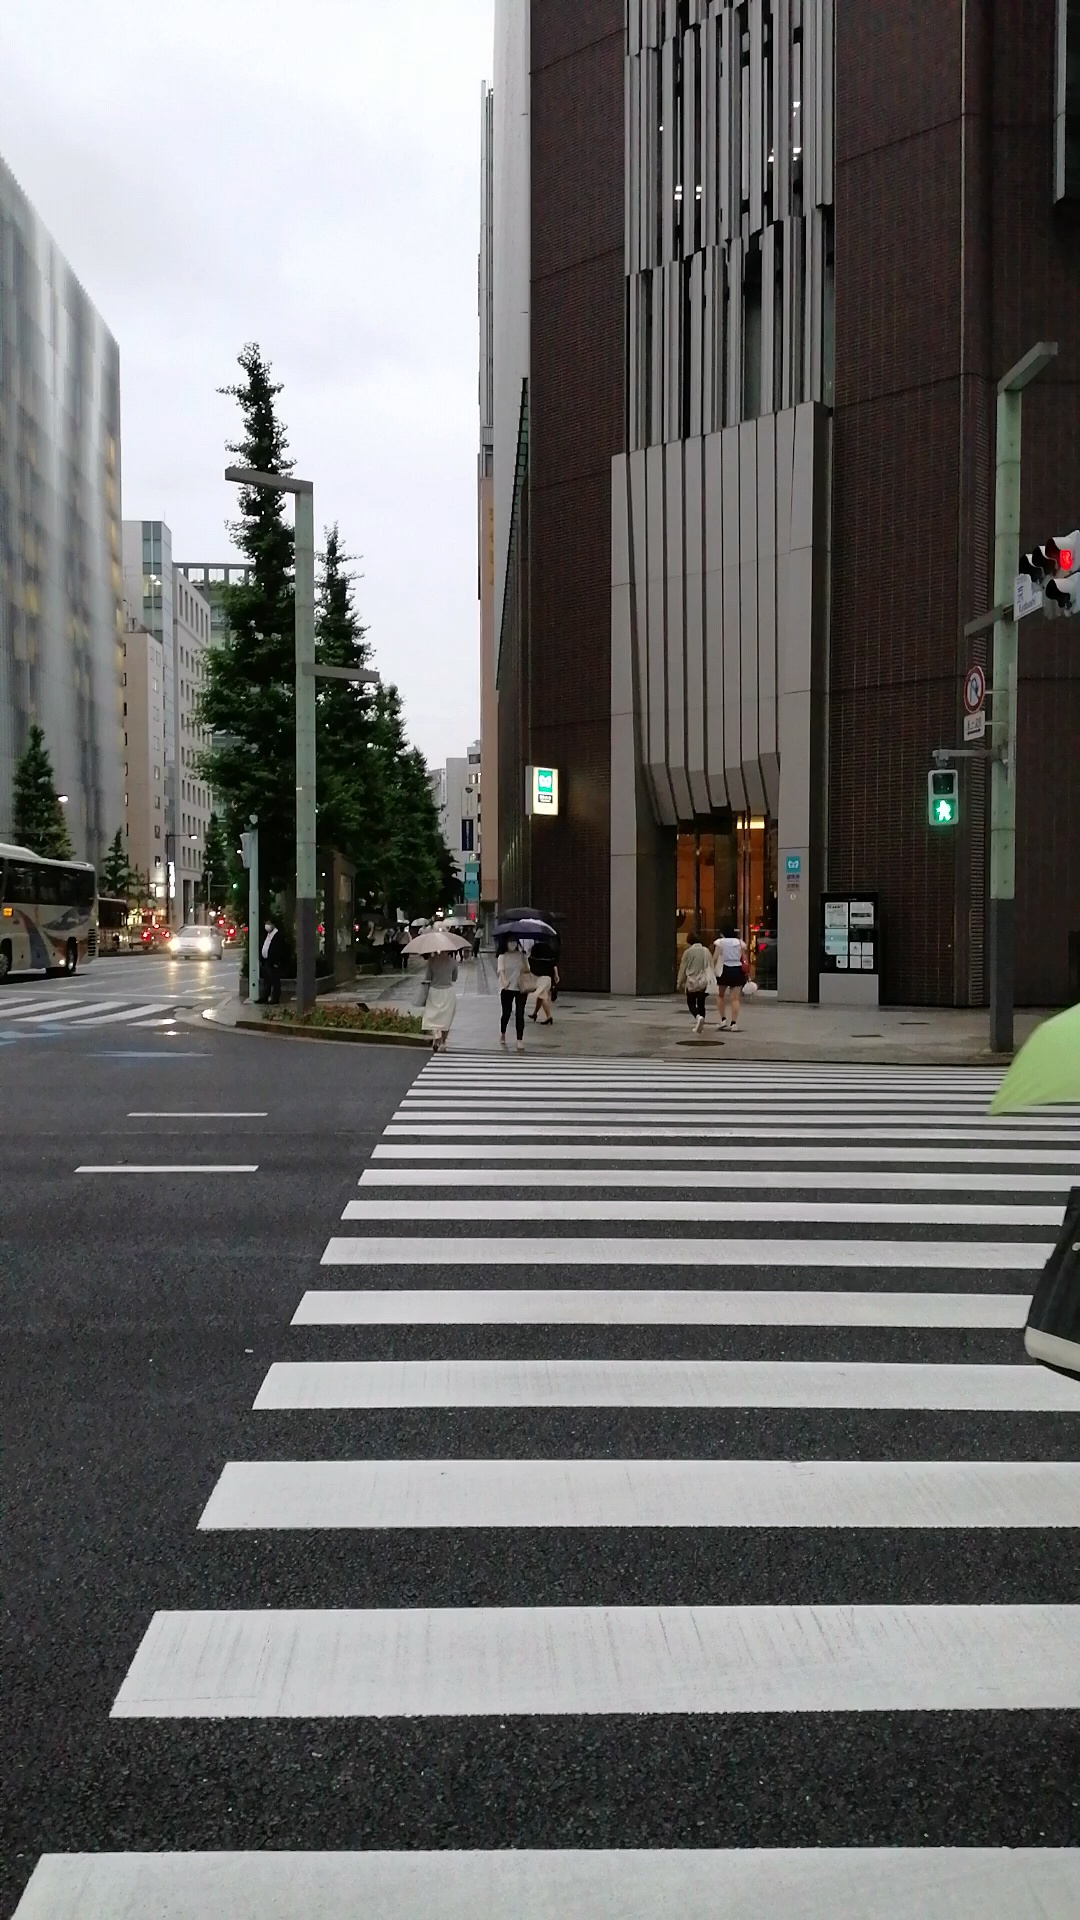green: (924, 767, 959, 828)
